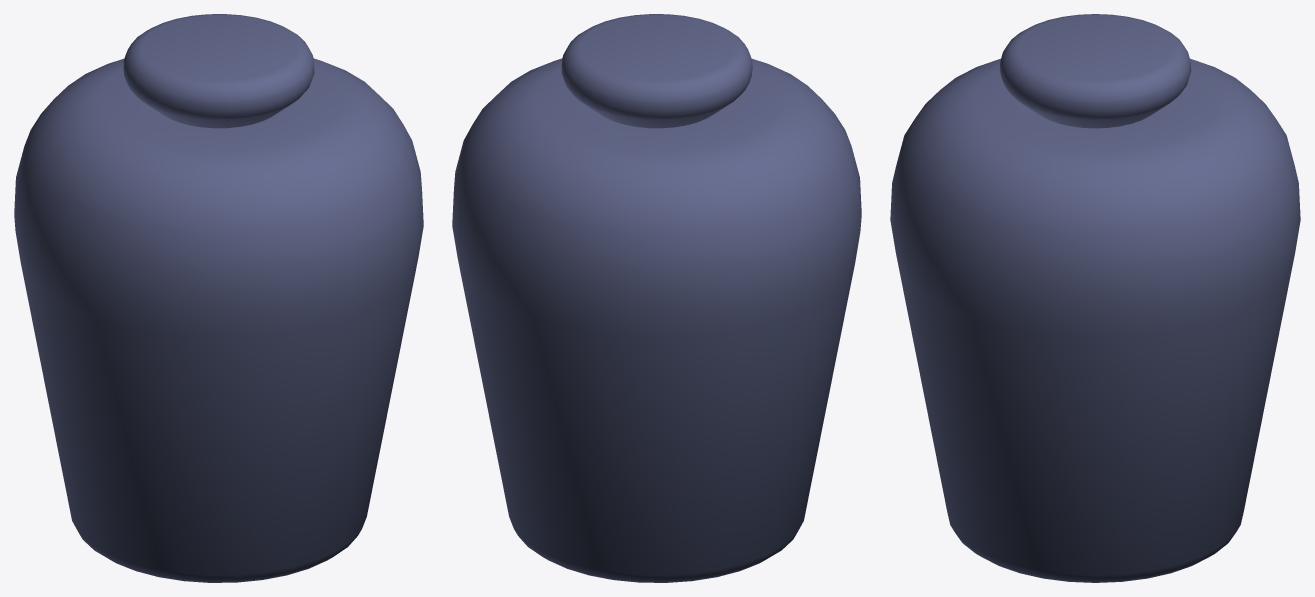
Rendered from Pot6.fbx.
3 renders of one model, left to right at view 1: azimuth 30°, elevation 25°; view 2: azimuth 150°, elevation 25°; view 3: azimuth 270°, elevation 25°, orthographic.
Parts seen in each view (by area): view 1: Pot6; view 2: Pot6; view 3: Pot6.
Boxes of the visible parts, <box> form: Pot6: <box>14,14,423,582</box>; Pot6: <box>452,14,861,582</box>; Pot6: <box>890,14,1300,582</box>.
Bounding box in the file's own units: 28.98 × 37.35 × 28.98.
